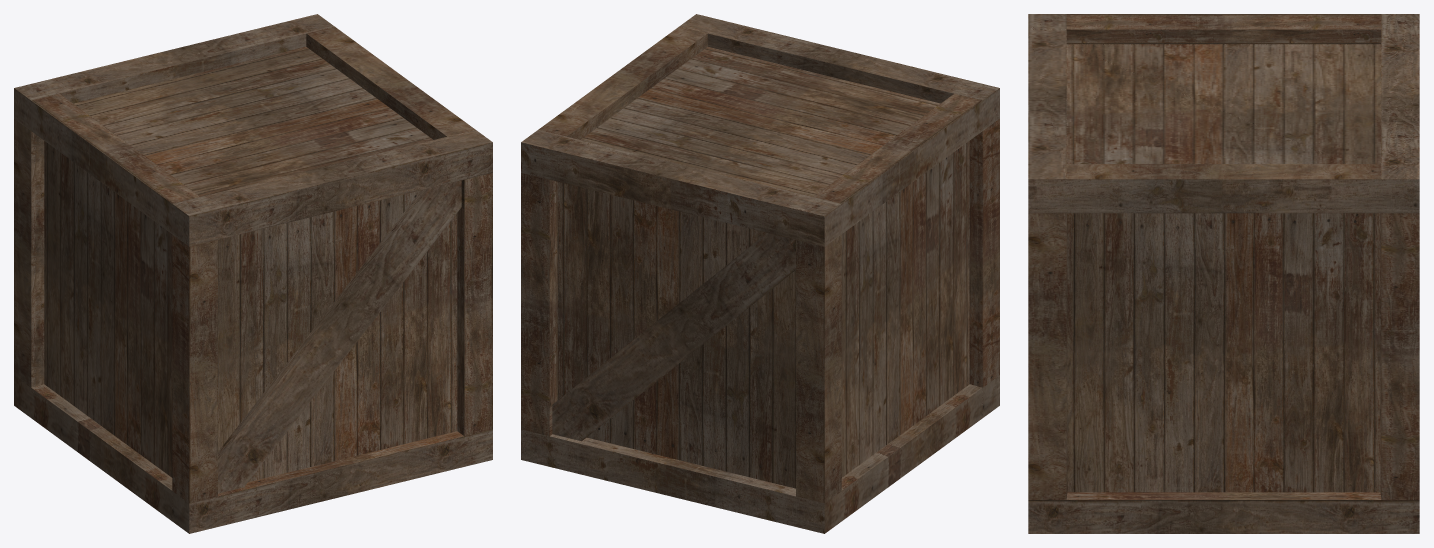
Rendered from kibako.fbx.
3 renders of one model, left to right at view 1: azimuth 30°, elevation 25°; view 2: azimuth 150°, elevation 25°; view 3: azimuth 270°, elevation 25°, orthographic. The views are drawn at different scales.
Parts seen in each view (by area): view 1: Cube; view 2: Cube; view 3: Cube.
Part boxes in pixels (x1,y1,x2,y2): Cube: [14, 14, 492, 533]; Cube: [521, 14, 999, 533]; Cube: [1028, 14, 1419, 533].
Bounding box in the file's own units: 200 × 200 × 200.
Materials: 1 (1 with a texture image).
